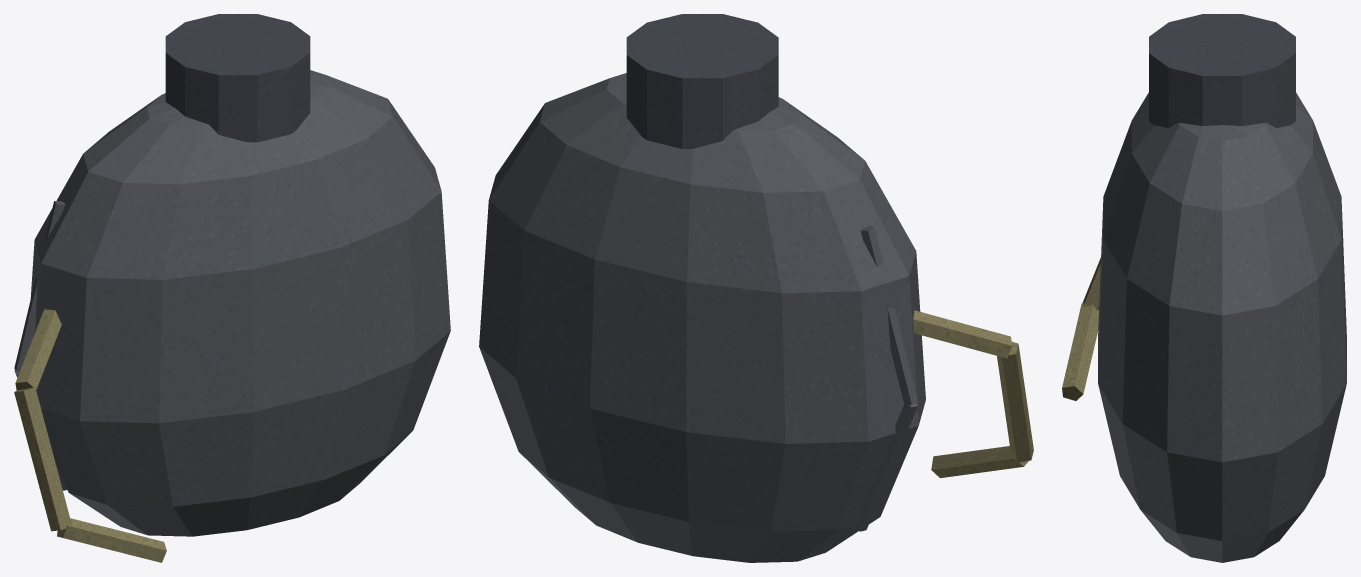
The model's file is 2lcanteen.glb.
The picture shows the model from 3 angles, left to right: view 1: azimuth 30°, elevation 25°; view 2: azimuth 150°, elevation 25°; view 3: azimuth 270°, elevation 25°; orthographic projection. The views are drawn at different scales.
Visible parts, largest first — view 1: block_molded canteen, block_screw cap, block_carry strap 1, block_carry strap 2, block_carry strap 0, block_joined canteen seam 1; view 2: block_molded canteen, block_screw cap, block_carry strap 1, block_carry strap 0, block_carry strap 2, block_joined canteen seam 1, block_joined canteen seam 0; view 3: block_molded canteen, block_screw cap, block_carry strap 2, block_carry strap 1.
Part boxes in pixels (x1,y1,x2,y2): block_molded canteen: (30, 70, 450, 536); block_screw cap: (165, 14, 310, 142); block_carry strap 1: (14, 387, 71, 531); block_carry strap 2: (57, 518, 166, 562); block_carry strap 0: (15, 309, 61, 390); block_joined canteen seam 1: (14, 201, 65, 371); block_molded canteen: (479, 73, 925, 562); block_screw cap: (626, 14, 778, 148); block_carry strap 1: (997, 341, 1033, 462); block_carry strap 0: (913, 310, 1012, 358); block_carry strap 2: (931, 446, 1028, 478); block_joined canteen seam 1: (860, 226, 918, 405); block_joined canteen seam 0: (853, 403, 917, 531); block_molded canteen: (1098, 92, 1346, 562); block_screw cap: (1149, 14, 1295, 127); block_carry strap 2: (1062, 303, 1098, 400); block_carry strap 1: (1082, 257, 1100, 310).
Size of the model in its own units: 0.3035 by 0.2817 by 0.1582.
Materials: 1 (1 with a texture image).
